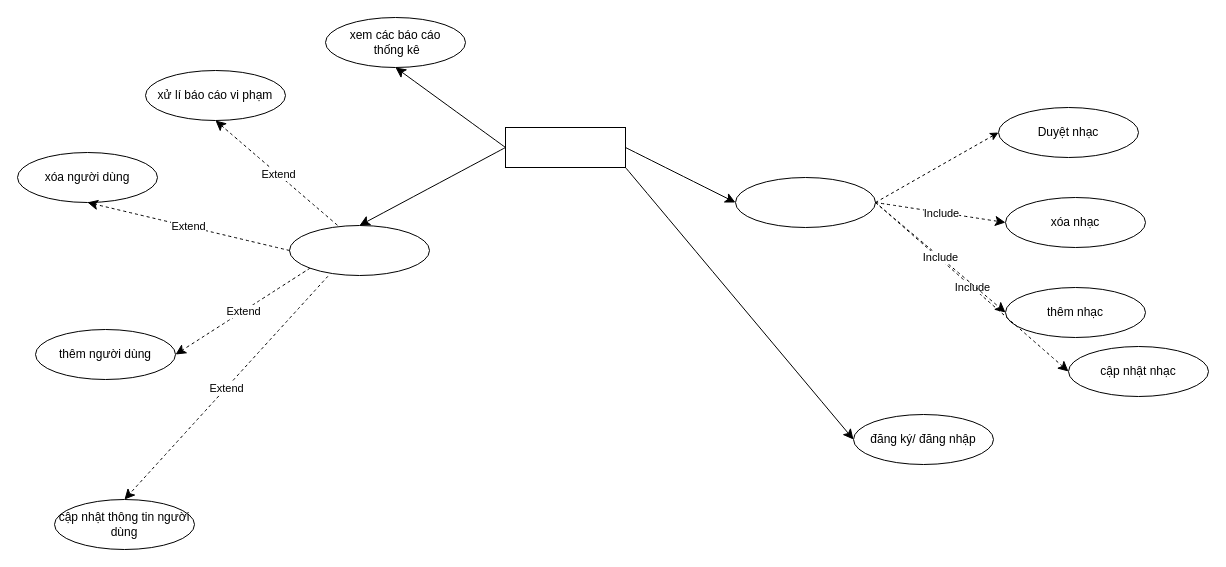
The diagram is 1226 pixels wide and 567 high, and some of its shapes have lost their labels. Each missing label, with the centre of its shape:
quản lí người dùng: the point at 359,250
quản lí thư viện nhạc: the point at 805,202
Quản trị viên: the point at 565,147
